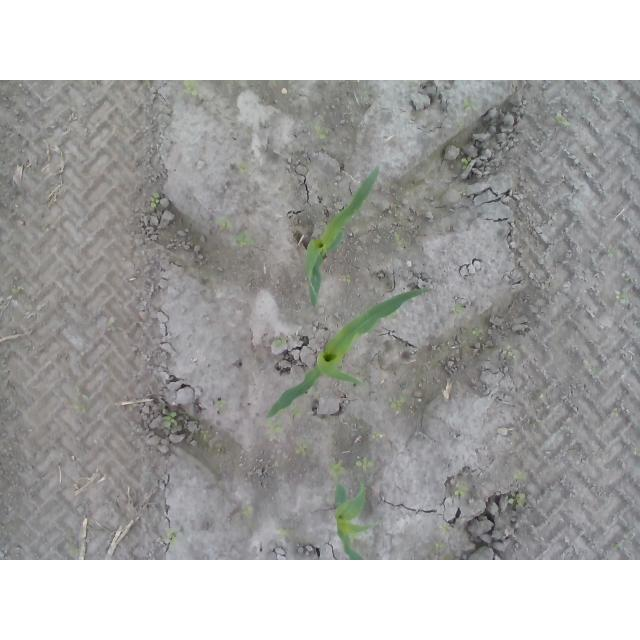Maize: (266, 286, 434, 422), (303, 166, 380, 307), (331, 480, 377, 561)
Weeds: (327, 464, 347, 481), (294, 439, 311, 456), (390, 396, 407, 413), (239, 233, 258, 248), (182, 80, 198, 97), (508, 492, 525, 508), (356, 456, 373, 472), (163, 409, 178, 427), (271, 336, 289, 349), (268, 418, 283, 433), (148, 192, 160, 209), (454, 483, 467, 498), (463, 100, 477, 113), (318, 127, 331, 140), (219, 217, 232, 229), (615, 290, 626, 303), (503, 344, 513, 357), (291, 407, 302, 417), (243, 506, 253, 517), (372, 432, 381, 441), (462, 159, 469, 170), (608, 250, 616, 257)
